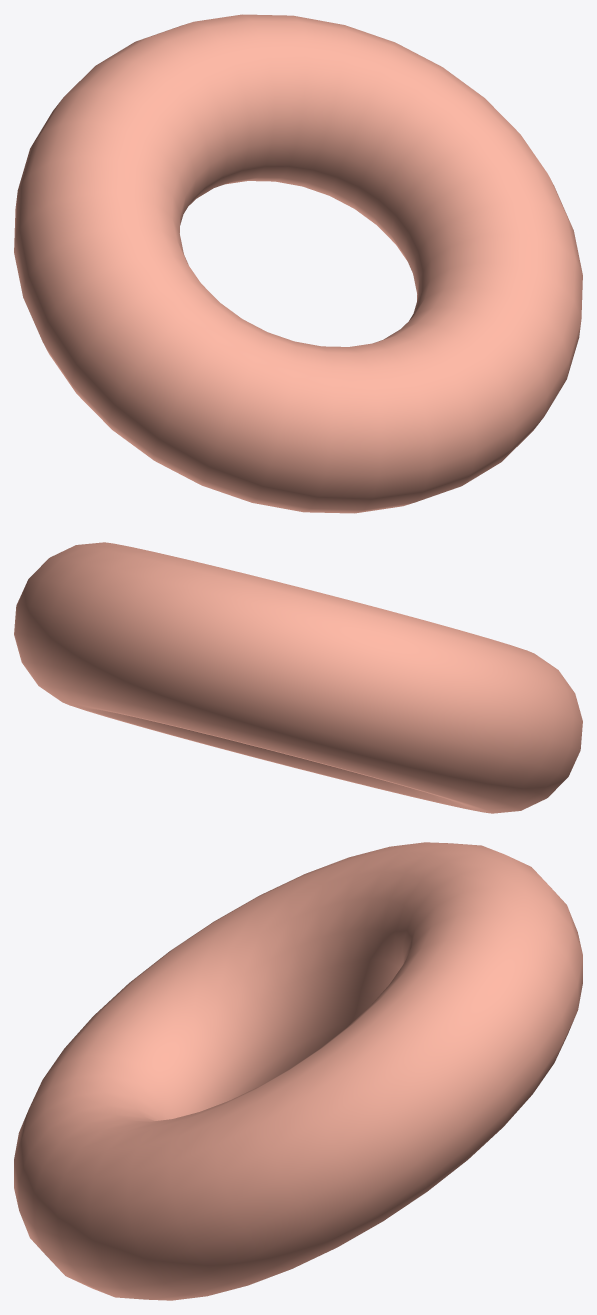
The picture shows the model from 3 angles, top to bottom: view 1: azimuth 30°, elevation 25°; view 2: azimuth 150°, elevation 25°; view 3: azimuth 270°, elevation 25°; orthographic projection. The views are drawn at different scales.
Visible parts, largest first — view 1: torus; view 2: torus; view 3: torus.
Part boxes in pixels (<box>): torus: <box>14,14,582,513</box>; torus: <box>14,542,582,813</box>; torus: <box>14,842,582,1300</box>.
Bounding box in the file's own units: 1.26 × 0.81 × 1.13.
